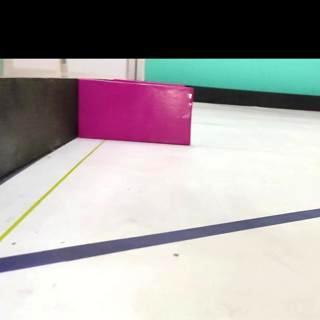xparking: (84, 80, 192, 146)
